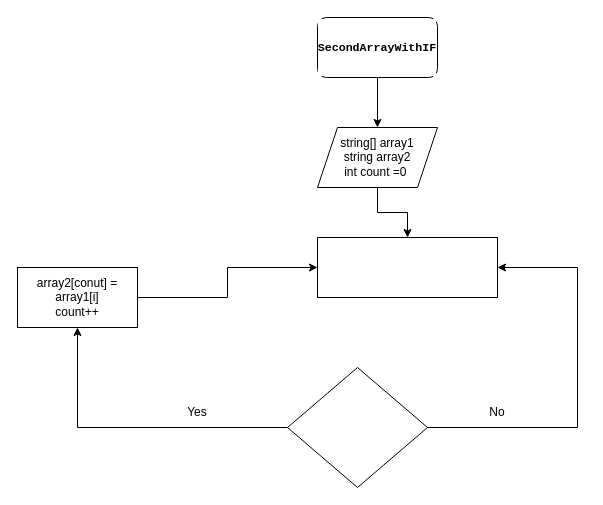
Some shapes in this 603 by 505 pixel diagram are drawn without their labels. The centre of each missing label's shape, as x and y in pixels:
"for(int i = 0; i<array1.length; i++)" goes at (407,267).
"if(array1[i].length<= 3)" goes at (357,427).
